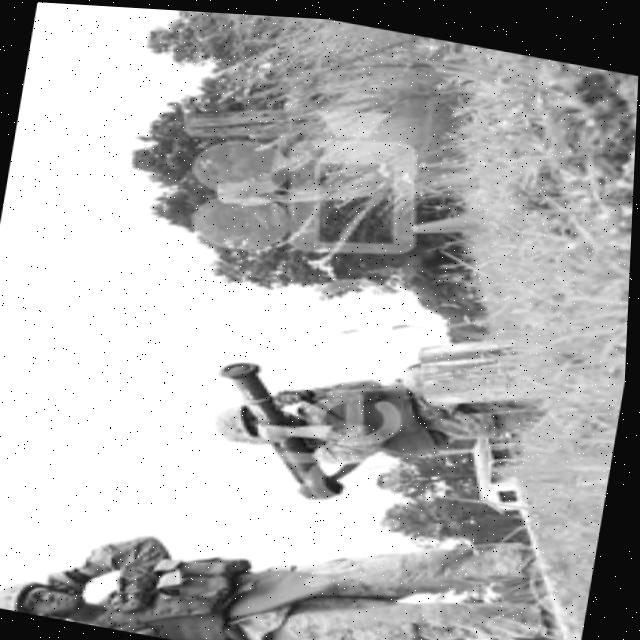rocket: (199, 335, 370, 514)
